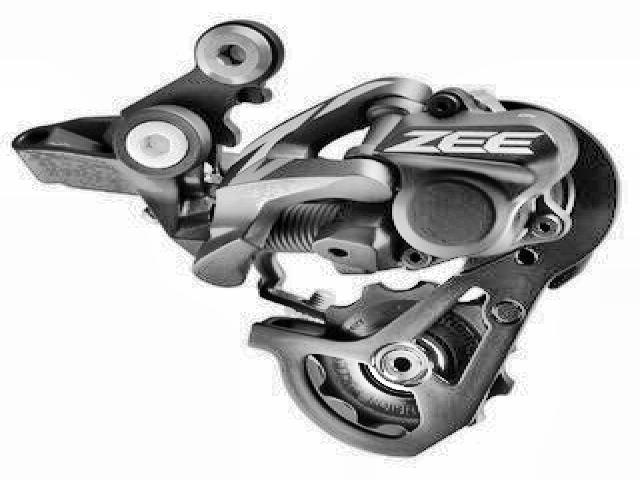rear_derailleur: (5, 19, 624, 460)
